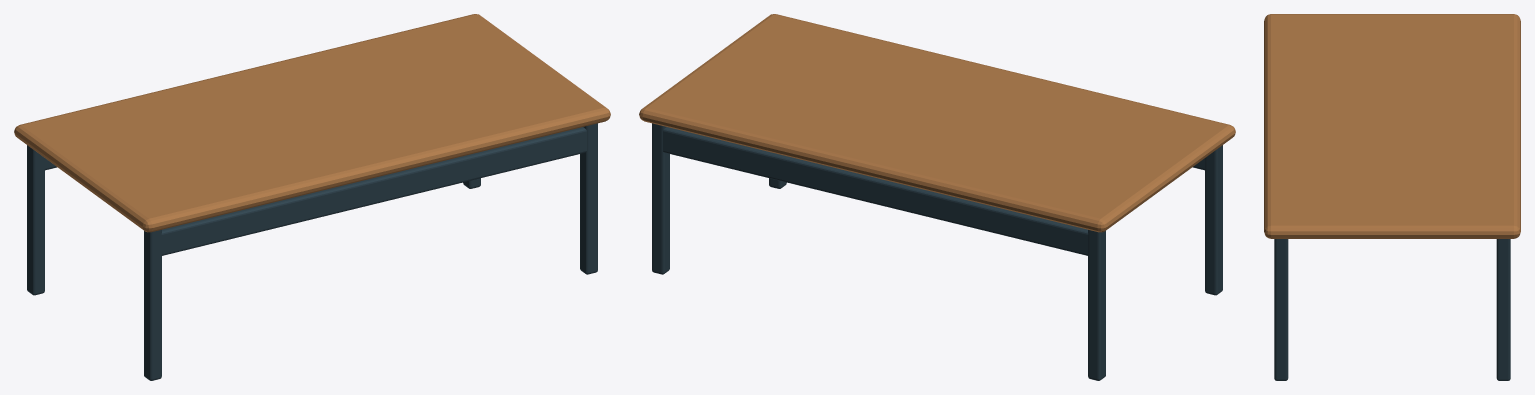
The model's file is ExperimentTable.fbx.
3 renders of one model, left to right at view 1: azimuth 30°, elevation 25°; view 2: azimuth 150°, elevation 25°; view 3: azimuth 270°, elevation 25°, orthographic. The views are drawn at different scales.
Parts seen in each view (by area): view 1: Oak worktop.001, Apron.002, Leg.004, Leg.005, Leg.006; view 2: Oak worktop.001, Apron.003, Leg.005, Leg.004, Leg.007; view 3: Oak worktop.001, Leg.006, Leg.007.
Boxes of the visible parts, x1,y1,x2,y2 form: Oak worktop.001: (14,14,610,232); Apron.002: (161,127,586,255); Leg.004: (144,230,161,380); Leg.005: (27,145,44,295); Leg.006: (580,123,597,274); Oak worktop.001: (639,14,1235,232); Apron.003: (663,127,1088,255); Leg.005: (1088,230,1105,380); Leg.004: (1205,145,1222,295); Leg.007: (652,123,669,274); Oak worktop.001: (1264,14,1520,238); Leg.006: (1274,239,1288,380); Leg.007: (1496,239,1510,380).
Size of the model in its own units: 2.4 by 0.8125 by 1.2.
